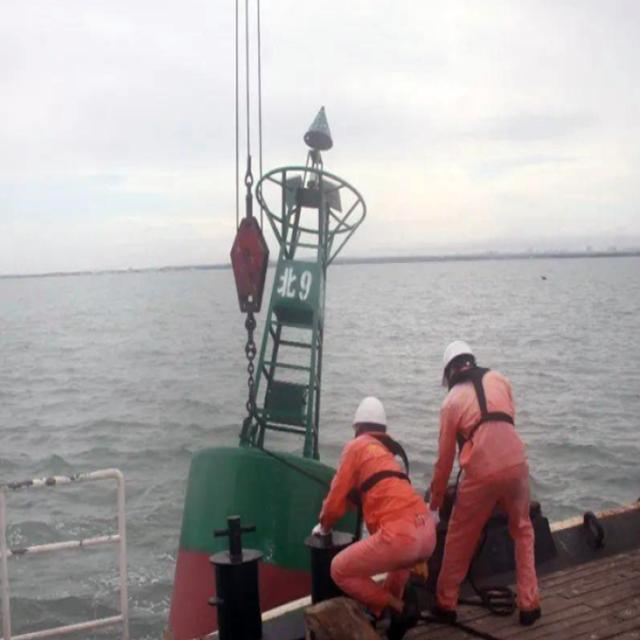buoy: (173, 108, 365, 640)
